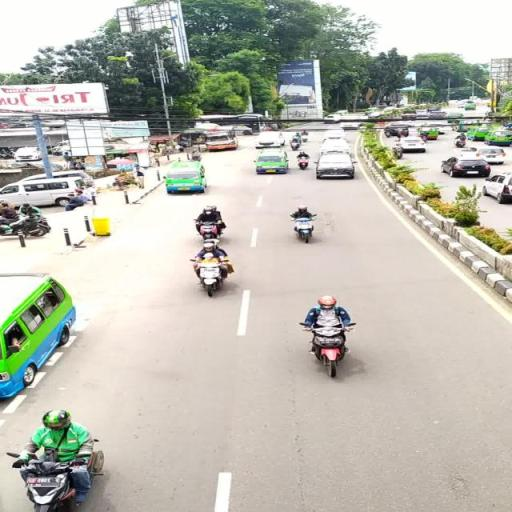Helmet: (43, 410, 71, 430), (318, 296, 336, 308), (204, 241, 215, 251), (204, 252, 214, 259), (298, 205, 307, 212), (207, 205, 216, 211), (204, 207, 211, 213), (23, 203, 30, 207)
Motor: (20, 449, 103, 511), (311, 324, 355, 377), (197, 253, 223, 296), (0, 217, 50, 236), (295, 217, 313, 243), (199, 222, 220, 239), (392, 146, 403, 159), (298, 157, 308, 169), (190, 152, 201, 161), (301, 130, 308, 142), (291, 140, 299, 150), (456, 140, 466, 147), (420, 133, 427, 143)
